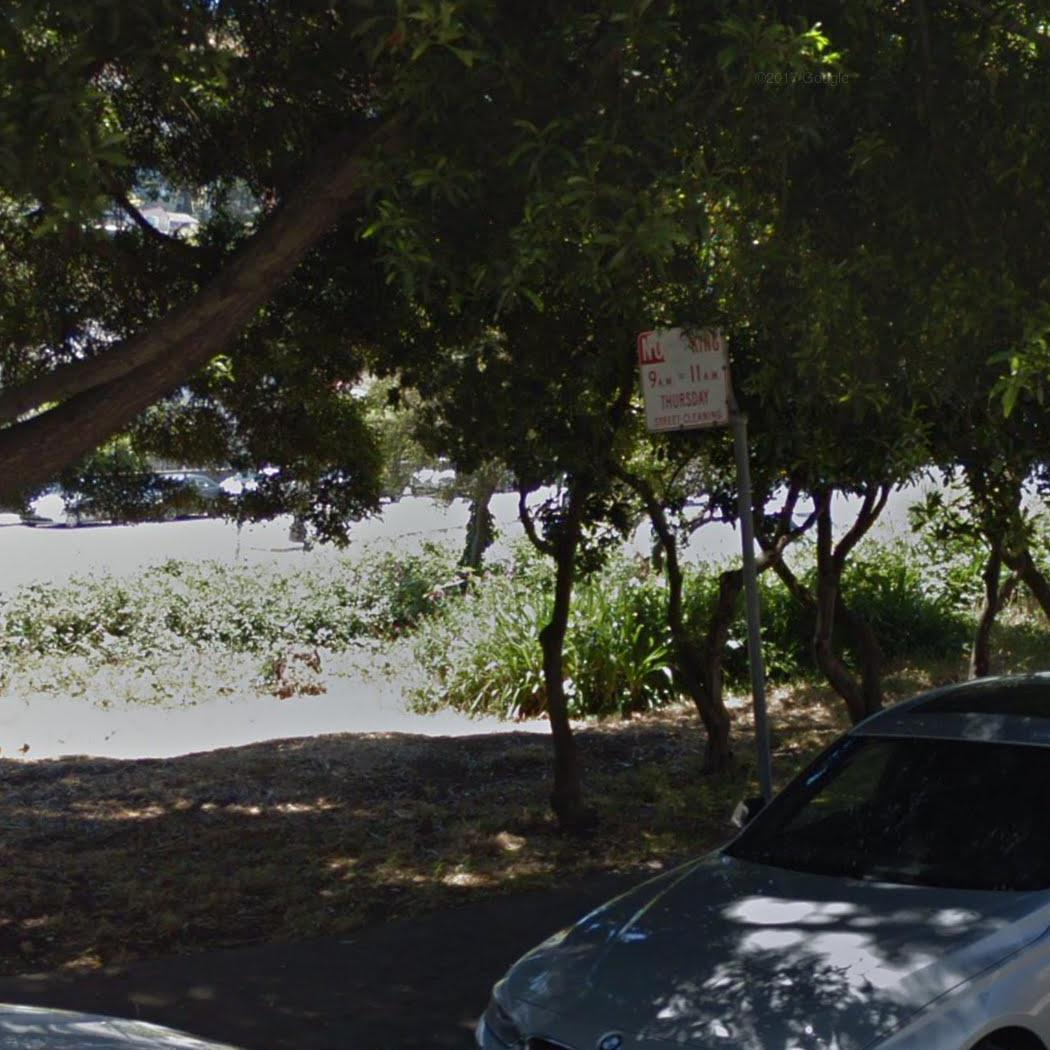No Parking: (633, 316, 738, 436)
